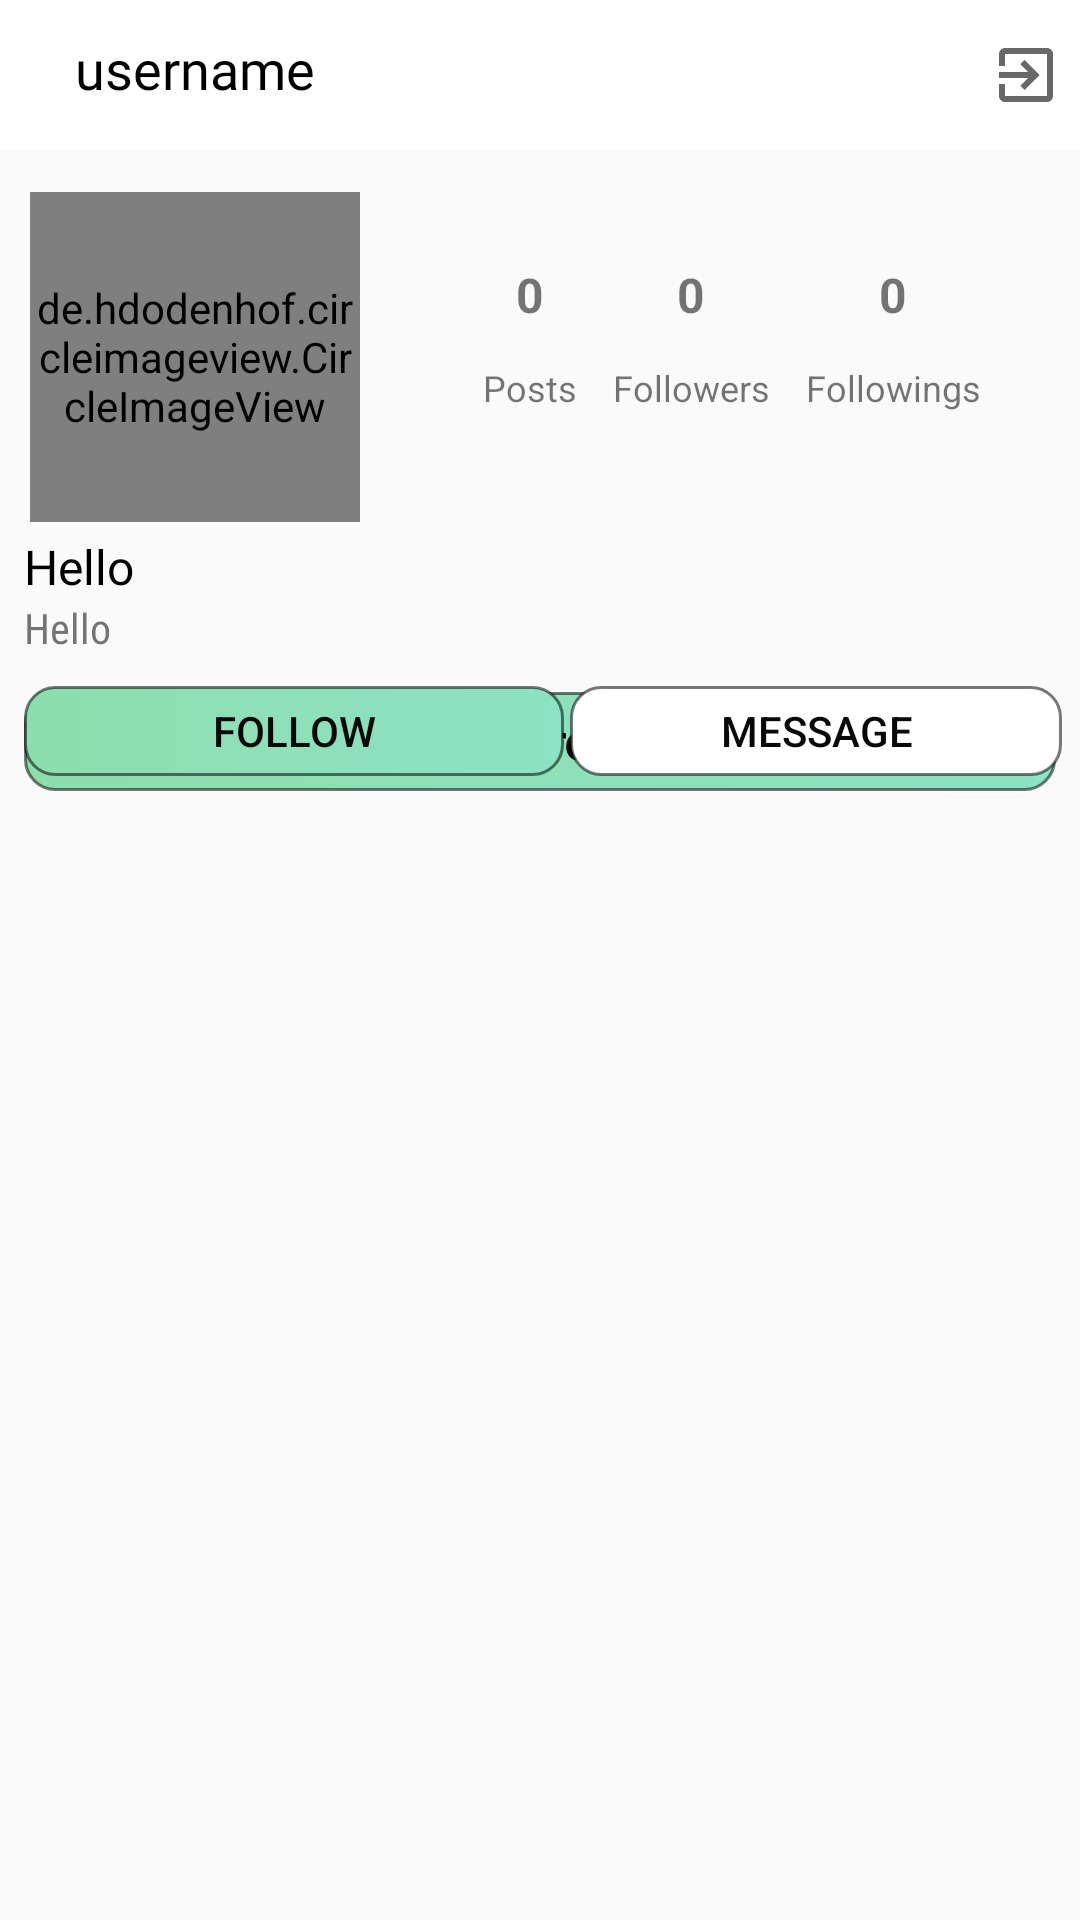

Icon bounding boxes for this 1080px×1920px phone screenshot, format (x1, y1, x2, y2):
exit to app: (999, 48, 1053, 102)
